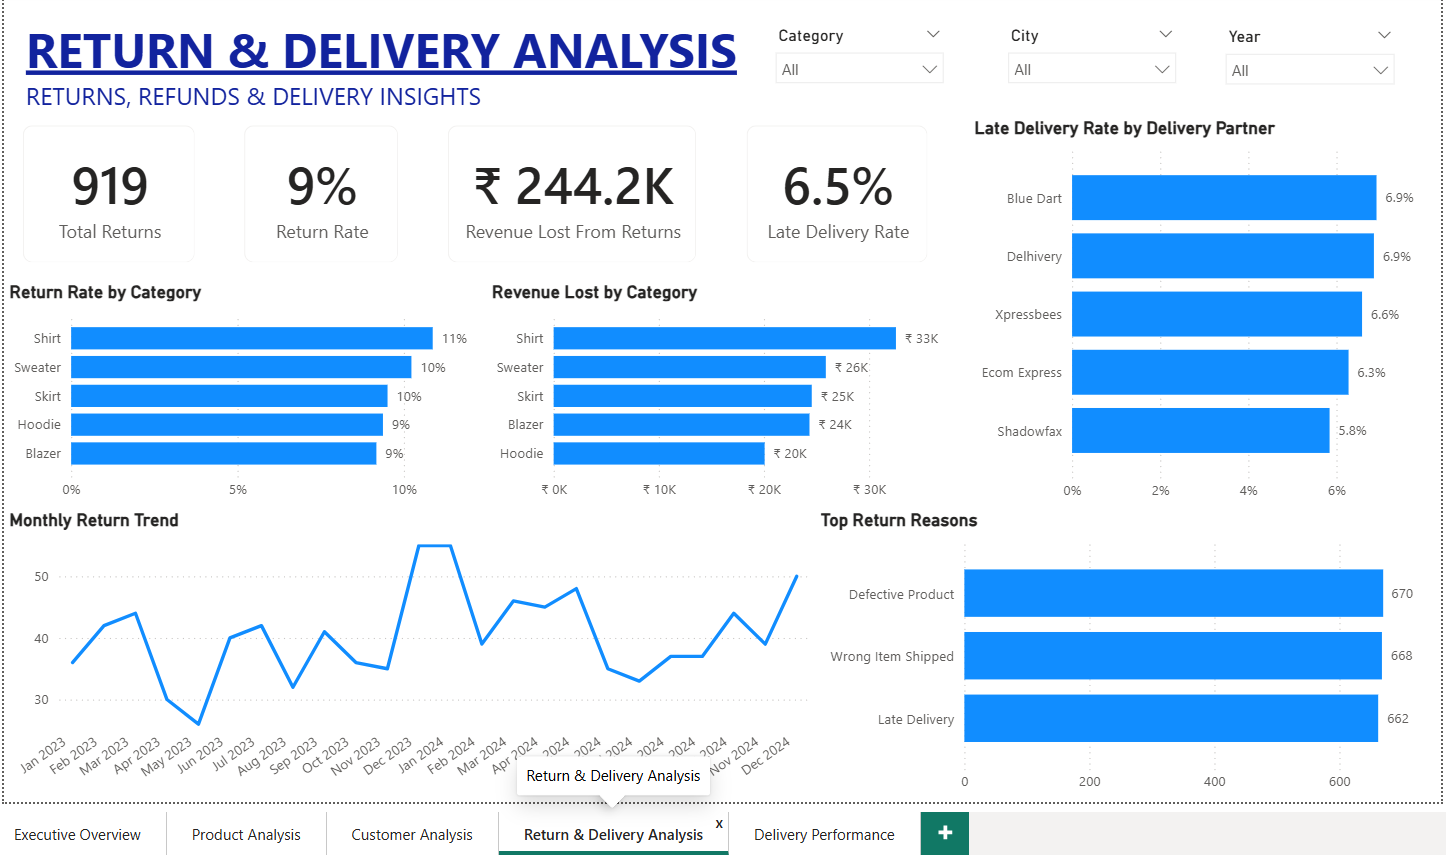

The dashboard page shown, as its layout file describes it:
{"tool":"powerbi","page":{"name":"Return & Delivery Analysis","canvas":[1280,720],"ordinal":3},"visuals":[{"type":"cardVisual","fields":{"Data":["orders.Revenue Lost From Returns"]},"box":[378.5,100.6,255.3,156.2],"z":0},{"type":"cardVisual","fields":{"Data":["orders.Return rate"]},"box":[196.8,100.6,171.2,156.2],"z":1000},{"type":"cardVisual","fields":{"Data":["returns.Late Delivery Rate"]},"box":[644.4,100.6,195.3,156.2],"z":2000},{"type":"cardVisual","fields":{"Data":["orders.Total returns"]},"box":[0,100.6,187.8,156.2],"z":3000},{"type":"slicer","fields":{"Values":["customer.City"]},"box":[883.5,23.5,170,75.6],"z":4000},{"type":"slicer","fields":{"Values":["product.Category"]},"box":[677.3,23.5,170,75.6],"z":5000},{"type":"textbox","box":[14.5,14.5,653.9,95.3],"z":6000},{"type":"slicer","fields":{"Values":["date.Year"]},"box":[1077.5,24,171,75.6],"z":7000},{"type":"clusteredBarChart","title":"Return Rate by Category","fields":{"Y":["orders.Return rate"],"Category":["product.Category"]},"box":[0,256.5,430,203.2],"z":8000},{"type":"clusteredBarChart","title":"Revenue Lost by Category","fields":{"Y":["orders.Revenue Lost From Returns"],"Category":["product.Category"]},"box":[430,256.5,428.7,203.2],"z":9000},{"type":"clusteredBarChart","title":"Late Delivery Rate by Delivery Partner","fields":{"Category":["delivery.DP_name"],"Y":["returns.Late Delivery Rate"]},"box":[859,109.8,411.4,349.9],"z":10000},{"type":"clusteredBarChart","title":"Top Return Reasons","fields":{"Y":["returns.return reason count"],"Category":["returns.Reason"]},"box":[722.4,459.7,547.7,260.2],"z":11000},{"type":"lineChart","title":"Monthly Return Trend ","fields":{"Category":["date.Month and Year"],"Y":["orders.Total Returns"]},"box":[0,459.7,722.4,260.2],"z":12000}]}

Visuals, with their boxes on the page's 1280x720 design canvas (x1, y1, x2, y2). These are canvas units, not pixel positions in the 1446x855 screenshot, which may show the page scaled, cropped or inside an application window:
cardVisual - orders.Revenue Lost From Returns: region(378, 101, 634, 257)
cardVisual - orders.Return rate: region(197, 101, 368, 257)
cardVisual - returns.Late Delivery Rate: region(644, 101, 840, 257)
cardVisual - orders.Total returns: region(0, 101, 188, 257)
slicer - customer.City: region(884, 24, 1054, 99)
slicer - product.Category: region(677, 24, 847, 99)
textbox: region(14, 14, 668, 110)
slicer - date.Year: region(1078, 24, 1248, 100)
"Return Rate by Category" clusteredBarChart: region(0, 256, 430, 460)
"Revenue Lost by Category" clusteredBarChart: region(430, 256, 859, 460)
"Late Delivery Rate by Delivery Partner" clusteredBarChart: region(859, 110, 1270, 460)
"Top Return Reasons" clusteredBarChart: region(722, 460, 1270, 720)
"Monthly Return Trend " lineChart: region(0, 460, 722, 720)
